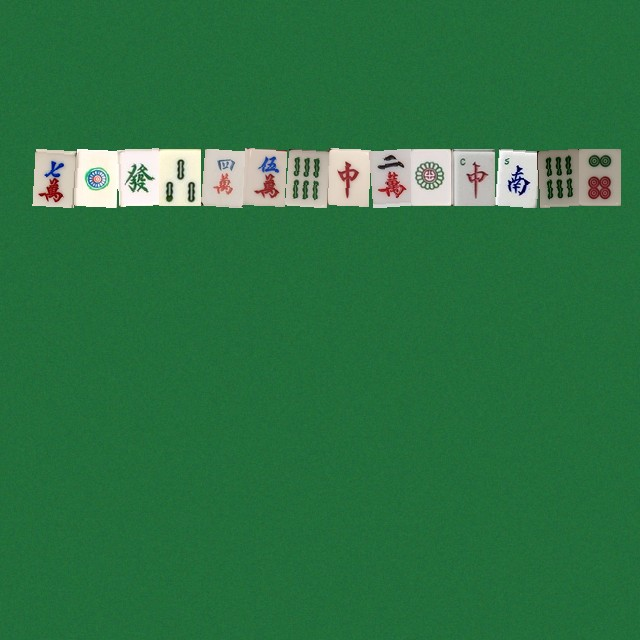tile: (32, 148, 74, 205), (74, 148, 116, 205), (116, 148, 158, 205), (158, 148, 200, 205), (200, 148, 242, 205), (242, 148, 284, 205), (284, 148, 326, 205), (326, 148, 368, 205), (368, 148, 410, 205), (410, 148, 452, 205), (452, 148, 494, 205), (494, 148, 536, 205), (536, 148, 578, 205), (578, 148, 620, 205)
